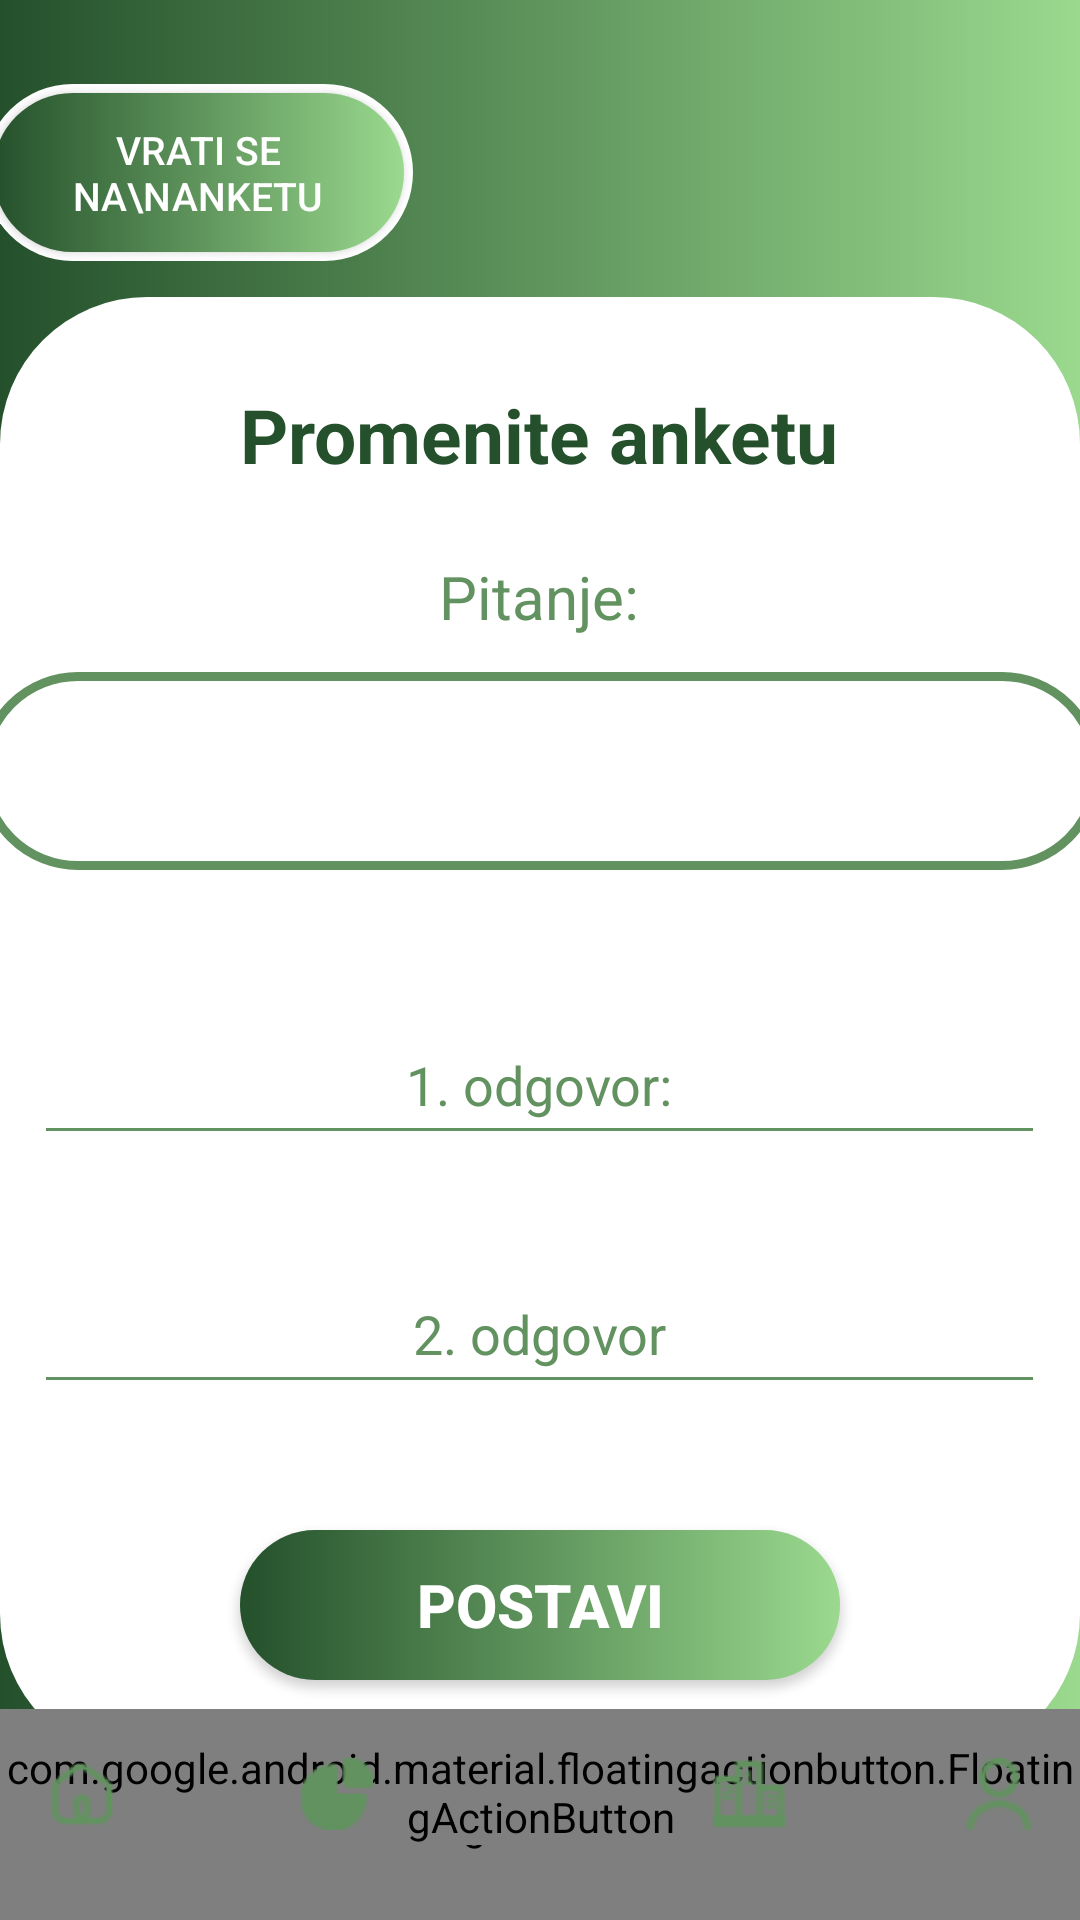

Screen size 1080x1920. Icon name, then its center in pixels as (x=x, y=y):
home: (x=85, y=1792)
user: (x=1002, y=1794)
